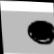correct: (27, 19, 54, 48)
